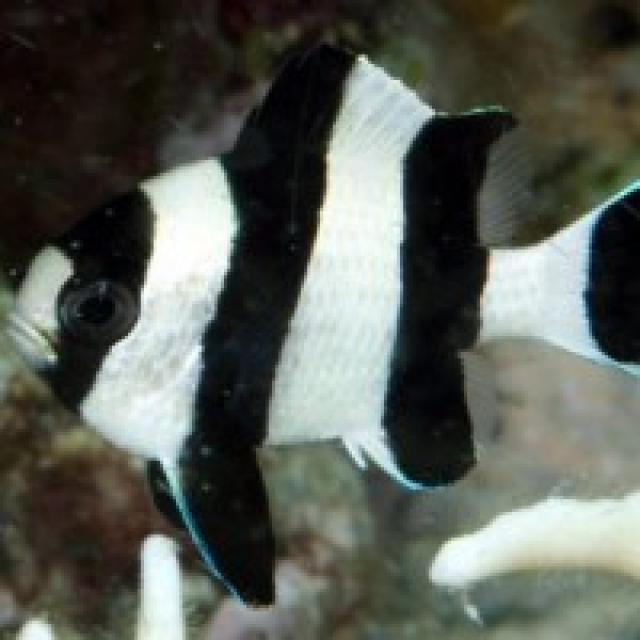ThreeStripedDamselfish: (3, 42, 640, 609)
